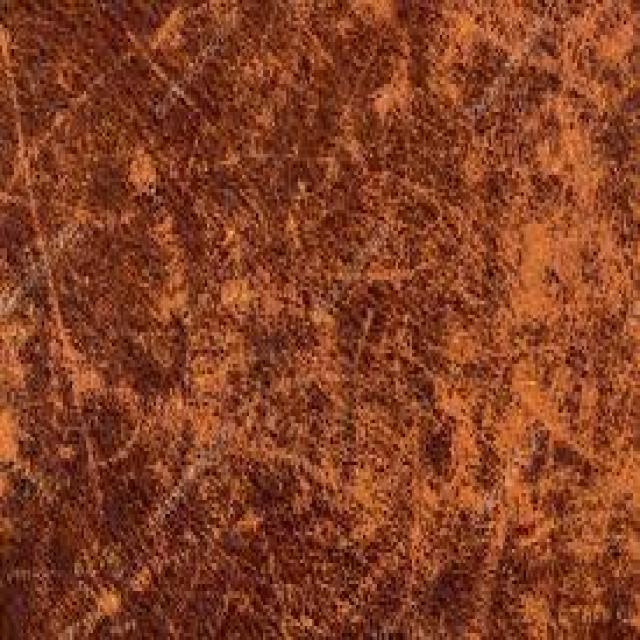Rotten surface: (461, 26, 608, 475), (366, 416, 626, 595)
